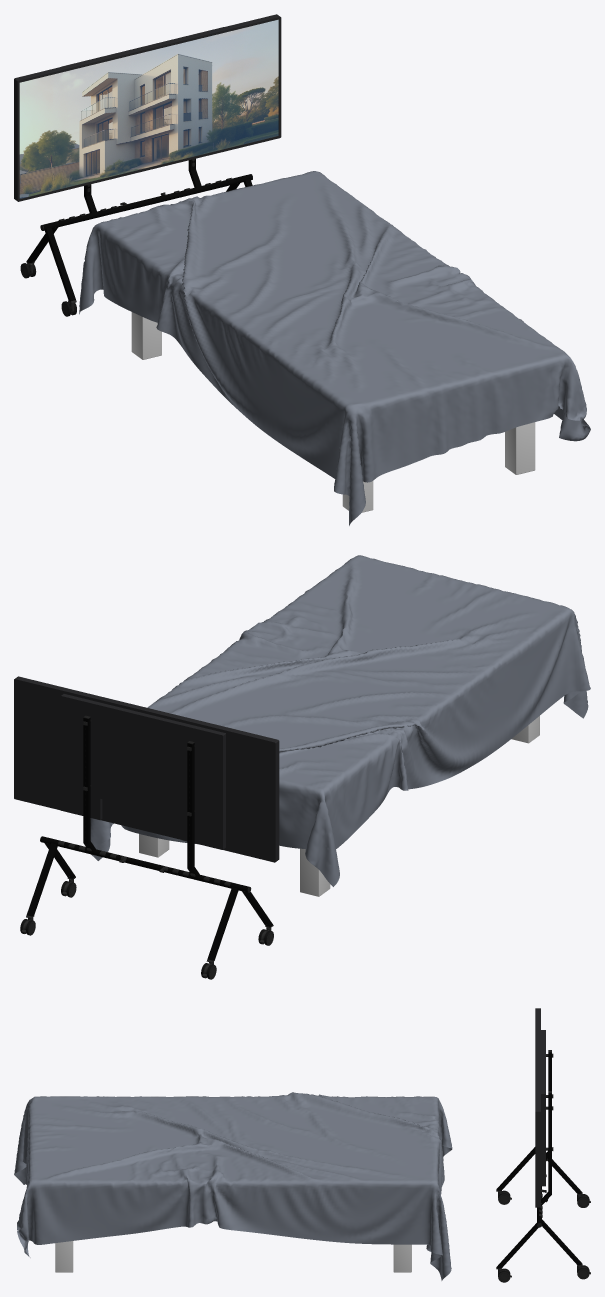
File: 会议桌加大屏_fixed.glb
3 views of the same model, one above another, from view 1: azimuth 30°, elevation 25°; view 2: azimuth 150°, elevation 25°; view 3: azimuth 270°, elevation 25° (orthographic). The views are drawn at different scales.
Parts seen in each view (by area): view 1: room_310_meeting_table_part_011, room_310_meeting_screen_part_006, room_310_meeting_screen_part_007, room_310_meeting_screen_part_009; view 2: room_310_meeting_table_part_011, room_310_meeting_screen_part_007, room_310_meeting_screen_part_009, room_310_meeting_screen_part_010, room_310_meeting_screen_part_008; view 3: room_310_meeting_table_part_011, room_310_meeting_screen_part_007, room_310_meeting_screen_part_008, room_310_meeting_screen_part_009, room_310_meeting_screen_part_010.
Part boxes in pixels (left/top/right/bottom): room_310_meeting_table_part_011: left=79, top=171, right=590, bottom=525; room_310_meeting_screen_part_006: left=19, top=19, right=278, bottom=198; room_310_meeting_screen_part_007: left=14, top=14, right=281, bottom=201; room_310_meeting_screen_part_009: left=20, top=158, right=252, bottom=316; room_310_meeting_table_part_011: left=90, top=555, right=590, bottom=896; room_310_meeting_screen_part_007: left=14, top=676, right=279, bottom=862; room_310_meeting_screen_part_009: left=40, top=715, right=273, bottom=979; room_310_meeting_screen_part_010: left=83, top=718, right=270, bottom=927; room_310_meeting_screen_part_008: left=20, top=836, right=251, bottom=962; room_310_meeting_table_part_011: left=14, top=1092, right=452, bottom=1280; room_310_meeting_screen_part_007: left=535, top=1008, right=545, bottom=1207; room_310_meeting_screen_part_008: left=496, top=1189, right=590, bottom=1282; room_310_meeting_screen_part_009: left=496, top=1091, right=590, bottom=1224; room_310_meeting_screen_part_010: left=541, top=1050, right=551, bottom=1205.
Size of what is drawn, in the model's own units: 3.05 by 2.52 by 7.21.
6 materials, 2 textured.
